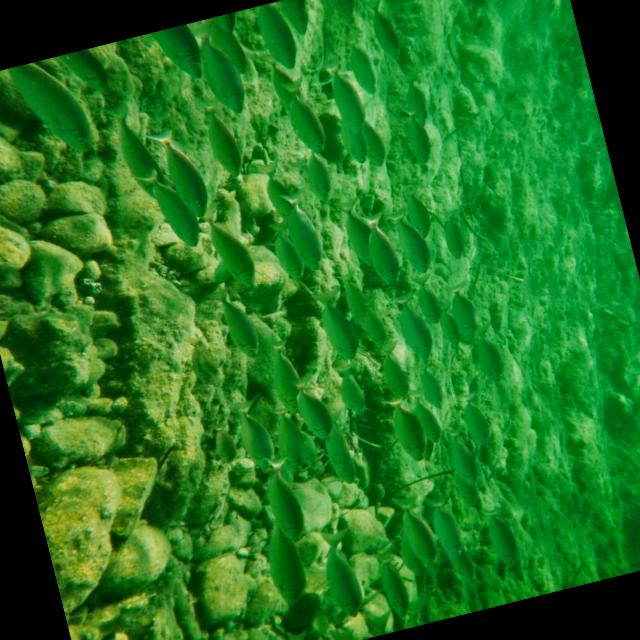Sokar Baligi: (252, 446, 316, 550), (266, 67, 334, 163), (345, 196, 408, 294)
